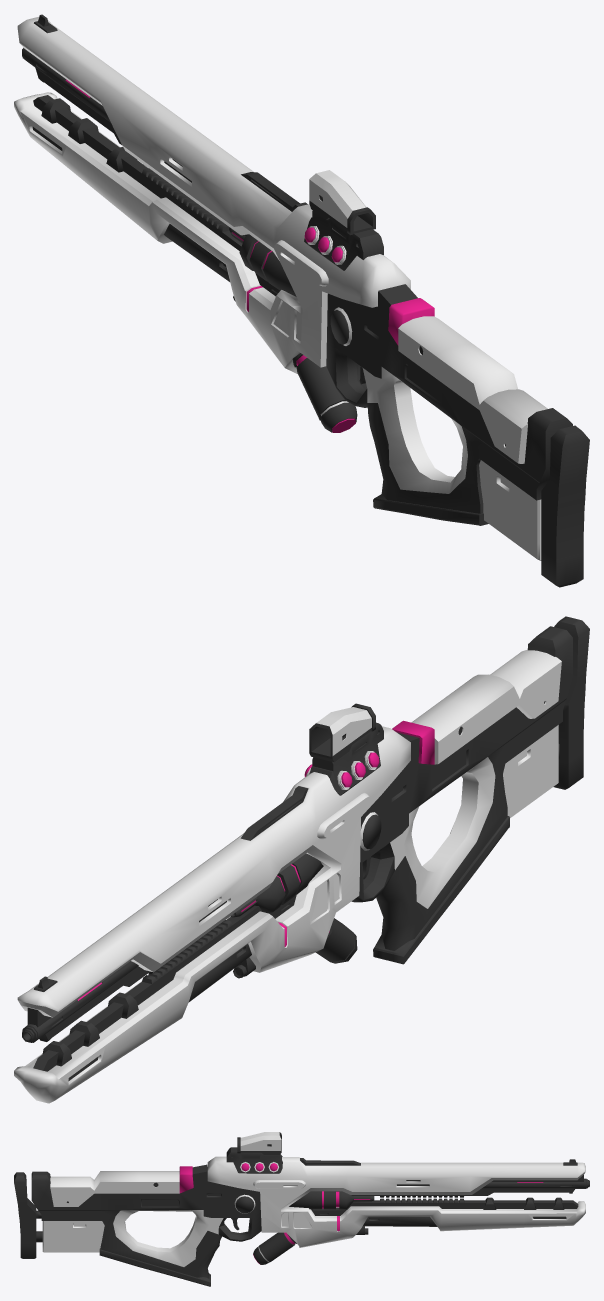
Rendered from Overdose_LaserBlaster.fbx.
3 renders of one model, top to bottom at view 1: azimuth 30°, elevation 25°; view 2: azimuth 150°, elevation 25°; view 3: azimuth 270°, elevation 25°, orthographic. The views are drawn at different scales.
Visible parts, largest first — view 1: Cube, Cube.007, Cube.005, Cube.004, Cube.002, Cube.014, Cylinder, Cube.001, Cylinder.001, Cube.012, Cube.015, Cube.006 (+3 smaller); view 2: Cube, Cube.007, Cube.005, Cube.002, Cube.004, Cube.014, Cylinder.001, Cube.001, Cylinder.002, Cube.012, Cylinder, Cube.006 (+4 smaller); view 3: Cube, Cube.007, Cube.005, Cube.002, Cube.004, Cylinder.001, Cube.014, Cube.001, Cylinder, Cube.008, Cylinder.002, Cube.003 (+4 smaller).
Boxes of the visible parts, bbox=[...] form: Cube: bbox=[14, 17, 410, 373]; Cube.007: bbox=[326, 284, 589, 587]; Cube.005: bbox=[398, 316, 547, 463]; Cube.004: bbox=[479, 460, 541, 560]; Cube.002: bbox=[33, 68, 279, 296]; Cube.014: bbox=[309, 170, 375, 235]; Cylinder: bbox=[292, 353, 357, 432]; Cube.001: bbox=[304, 210, 383, 270]; Cylinder.001: bbox=[229, 227, 296, 296]; Cube.012: bbox=[41, 98, 136, 172]; Cube.015: bbox=[388, 298, 434, 345]; Cube.006: bbox=[274, 240, 328, 286]; Cube: bbox=[14, 726, 410, 1103]; Cube.007: bbox=[351, 616, 589, 964]; Cube.005: bbox=[411, 650, 561, 764]; Cube.002: bbox=[27, 895, 296, 1071]; Cube.004: bbox=[503, 725, 558, 817]; Cube.014: bbox=[309, 703, 375, 762]; Cylinder.001: bbox=[231, 853, 323, 917]; Cube.001: bbox=[309, 722, 383, 795]; Cylinder.002: bbox=[22, 961, 138, 1042]; Cube.012: bbox=[42, 992, 138, 1066]; Cylinder: bbox=[316, 918, 357, 963]; Cube.006: bbox=[317, 793, 371, 839]; Cube: bbox=[207, 1156, 585, 1247]; Cube.007: bbox=[14, 1164, 261, 1286]; Cube.005: bbox=[50, 1171, 179, 1206]; Cube.002: bbox=[311, 1174, 583, 1215]; Cube.004: bbox=[42, 1221, 104, 1252]; Cylinder.001: bbox=[289, 1191, 374, 1209]; Cube.014: bbox=[237, 1132, 281, 1154]; Cube.001: bbox=[226, 1147, 282, 1173]; Cylinder: bbox=[253, 1232, 296, 1264]; Cube.008: bbox=[363, 1216, 437, 1226]; Cylinder.002: bbox=[482, 1178, 589, 1188]; Cube.003: bbox=[380, 1196, 464, 1202].
Size of the model in its own units: 65.35 by 357 by 1249.
